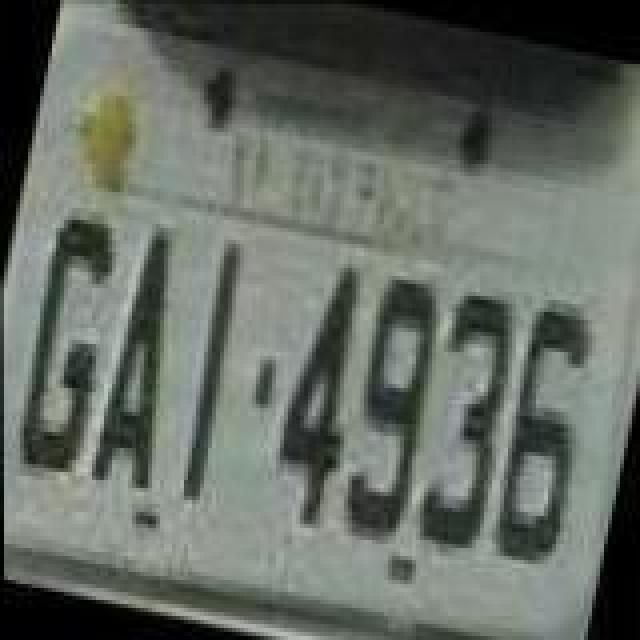1: (166, 240, 254, 508)
3: (404, 286, 528, 558)
4: (264, 260, 380, 528)
6: (480, 300, 604, 572)
9: (328, 274, 452, 546)
A: (84, 220, 200, 500)
G: (4, 208, 128, 480)
